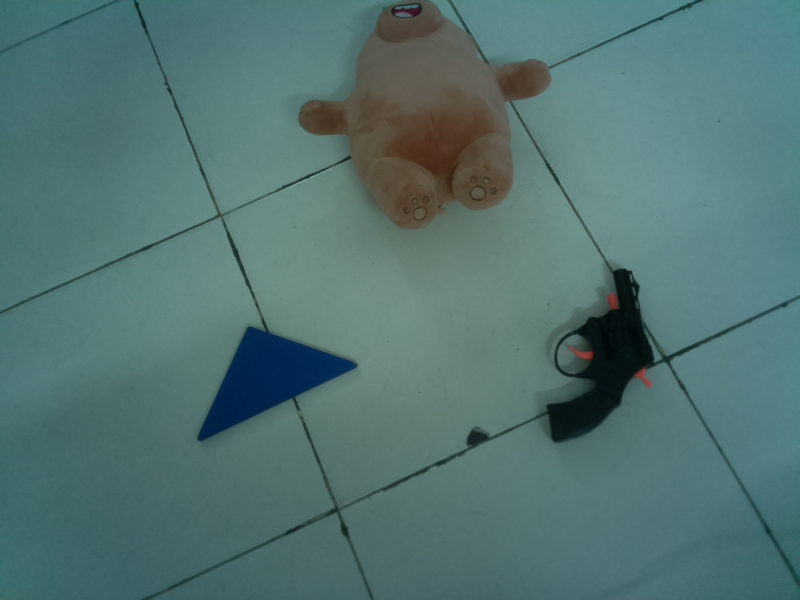Gun: (540, 266, 662, 446)
Triangle: (192, 322, 365, 450)
